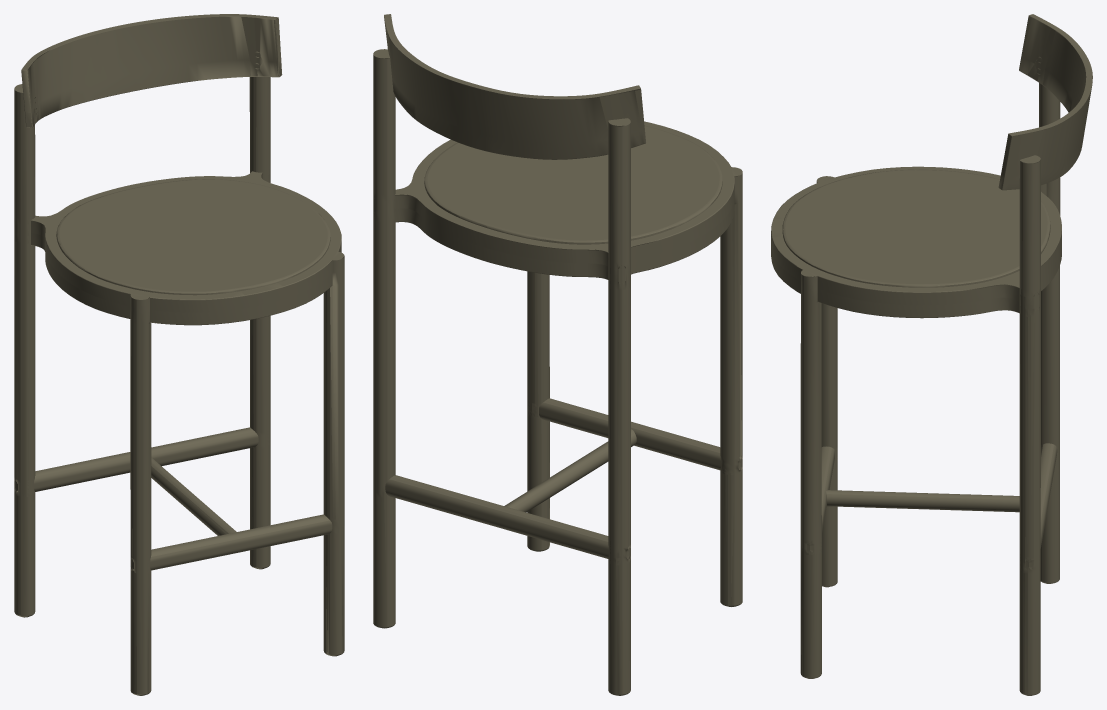
File: highchairgreen.glb
3 views of the same model, side by side, from view 1: azimuth 30°, elevation 25°; view 2: azimuth 150°, elevation 25°; view 3: azimuth 270°, elevation 25° (orthographic). The views are drawn at different scales.
Parts seen in each view (by area): view 1: Object_19_n3d, Object_5_n3d, Object_25_n3d; view 2: Object_19_n3d, Object_5_n3d, Object_25_n3d; view 3: Object_19_n3d, Object_5_n3d, Object_25_n3d.
Boxes of the visible parts, box(x1,y1,x2,y2) form: Object_19_n3d: box(14, 14, 344, 695); Object_5_n3d: box(56, 179, 330, 295); Object_25_n3d: box(31, 172, 341, 325); Object_19_n3d: box(373, 14, 742, 695); Object_5_n3d: box(424, 125, 722, 244); Object_25_n3d: box(395, 177, 734, 279); Object_19_n3d: box(771, 14, 1092, 695); Object_5_n3d: box(782, 169, 1050, 287); Object_25_n3d: box(771, 183, 1061, 318).
Bounding box in the file's own units: 59.73 × 123 × 63.83.
